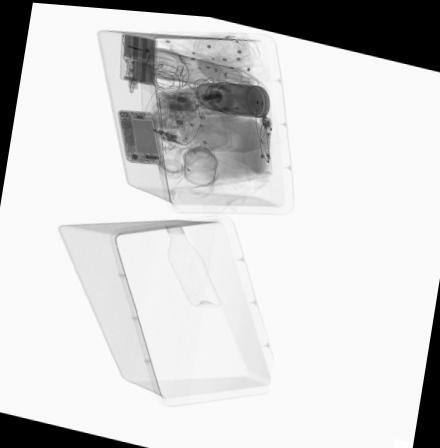Powerbank: (118, 30, 159, 84)
